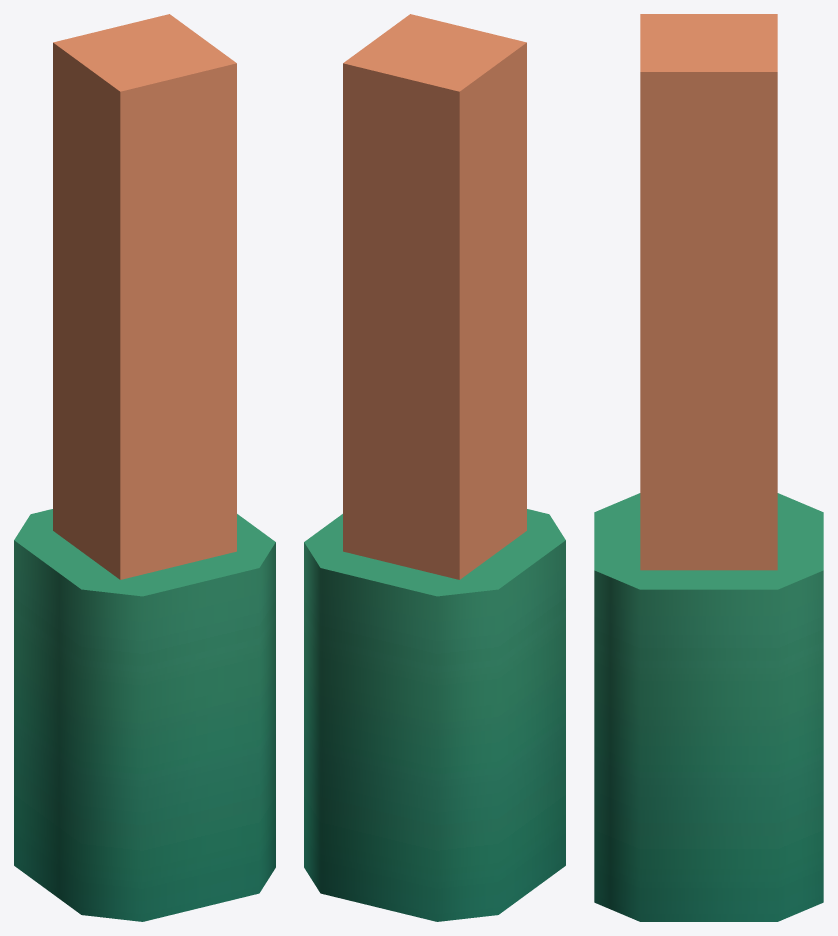
File: kenney-holiday-cabin-corner-bottom.glb
The picture shows the model from 3 angles, left to right: view 1: azimuth 30°, elevation 25°; view 2: azimuth 150°, elevation 25°; view 3: azimuth 270°, elevation 25°; orthographic projection. The views are drawn at different scales.
Visible parts, largest first — view 1: cabin-corner-bottom; view 2: cabin-corner-bottom; view 3: cabin-corner-bottom.
Boxes of the visible parts, <box> form: cabin-corner-bottom: <box>14,14,275,921</box>; cabin-corner-bottom: <box>304,14,565,921</box>; cabin-corner-bottom: <box>594,14,823,921</box>.
Size of the model in its own units: 0.25 by 1 by 0.25.
Materials: 1 (1 with a texture image).
